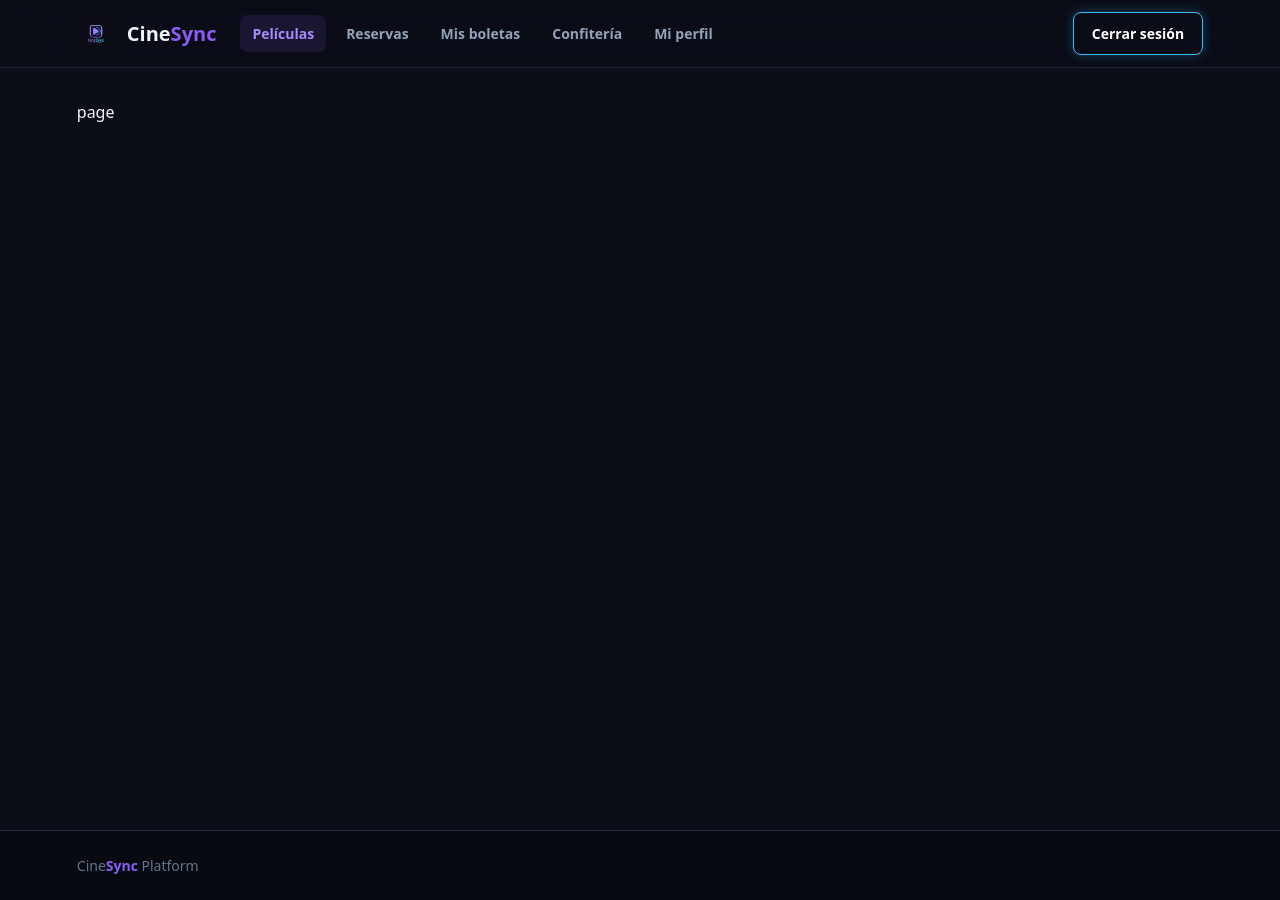
Test case: ShellLayoutComponent › offers only sign out while the auth portal has a session, and ends it on sign out
The image size is (1280, 900).
Click the button "Cerrar sesión".
click(1138, 34)  # box [1073,12,1203,55]
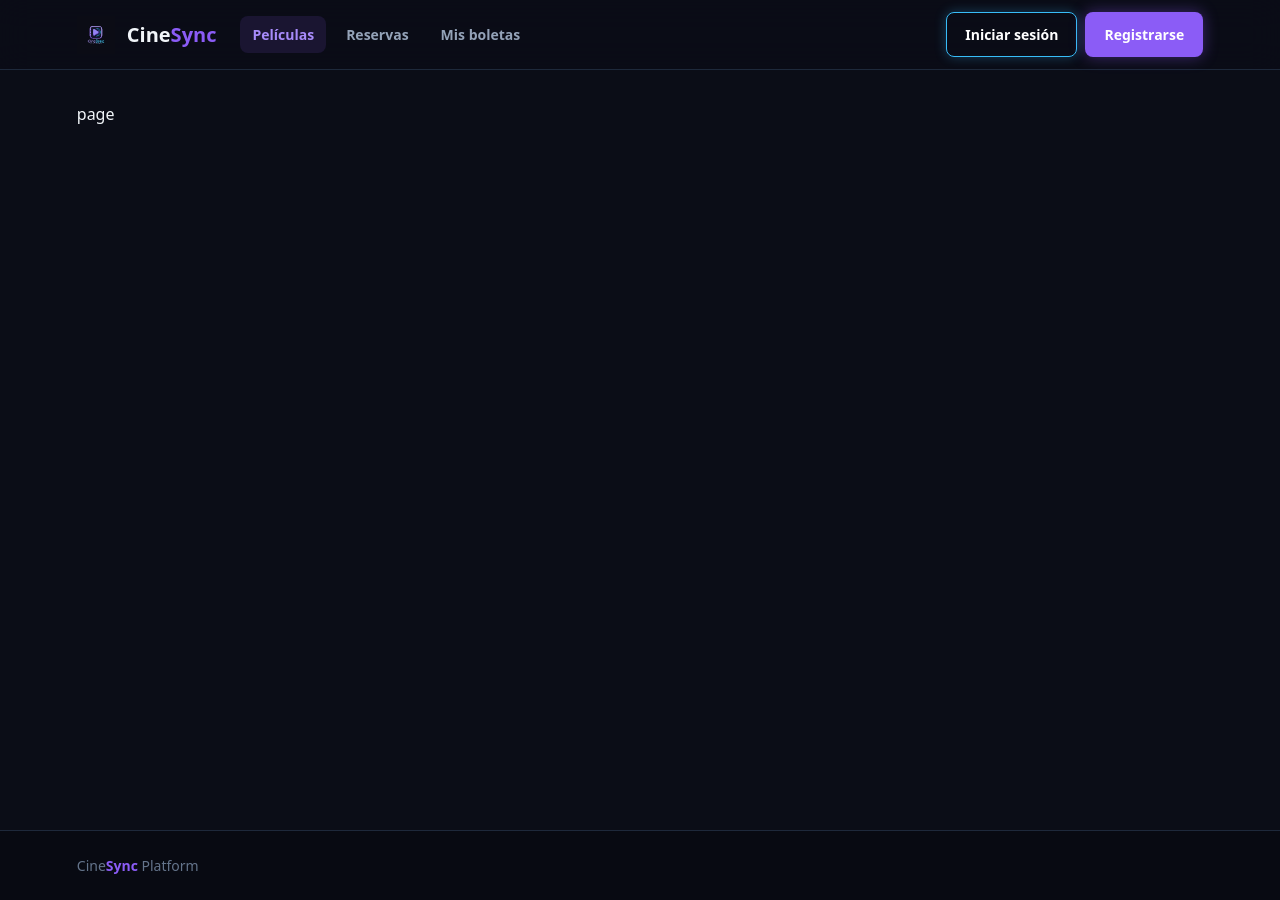
Now the button "Cerrar sesión" is gone
